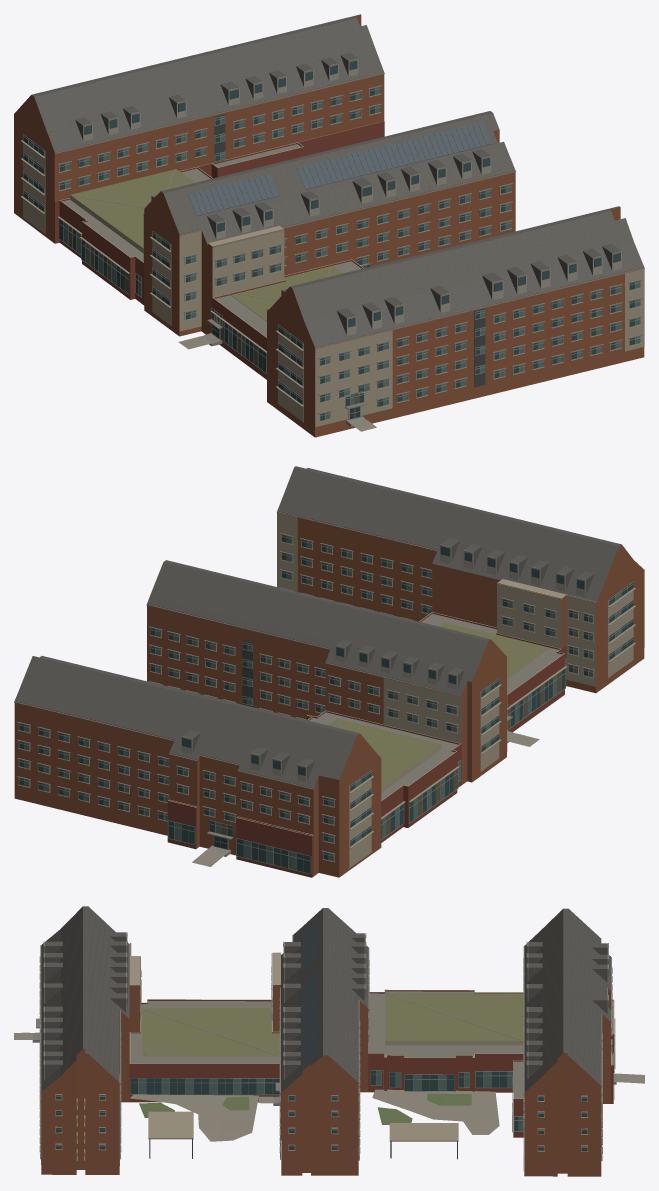
File: site.glb
3 views of the same model, one above another, from view 1: azimuth 30°, elevation 25°; view 2: azimuth 150°, elevation 25°; view 3: azimuth 270°, elevation 25° (orthographic). The views are drawn at different scales.
Parts seen in each view (by area): view 1: context-b0158, global-scholars-approaches; view 2: context-b0158, global-scholars-approaches; view 3: context-b0158, global-scholars-approaches.
Boxes of the visible parts, x1,y1,x2,y2 form: context-b0158: (14,14,644,437); global-scholars-approaches: (178,333,376,431); context-b0158: (14,466,644,877); global-scholars-approaches: (192,730,539,866); context-b0158: (36,906,615,1176); global-scholars-approaches: (14,1032,644,1141).
Size of the model in its own units: 65.35 by 23.94 by 113.
